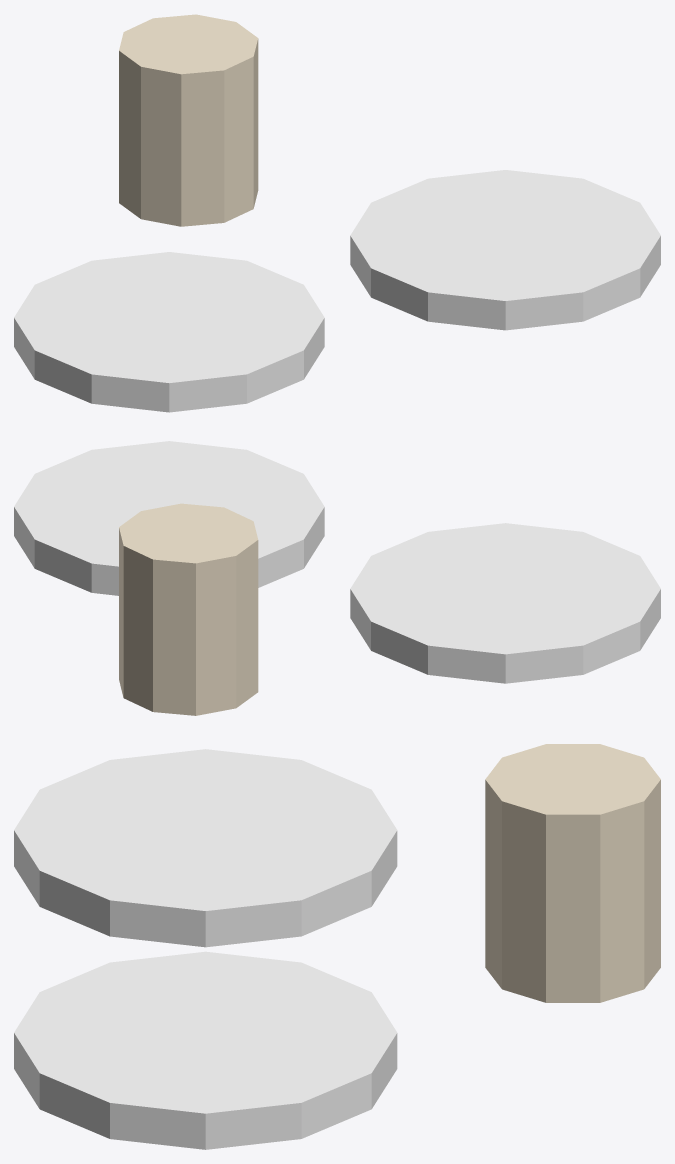
3 views of the same model, one above another, from view 1: azimuth 30°, elevation 25°; view 2: azimuth 150°, elevation 25°; view 3: azimuth 270°, elevation 25° (orthographic). The views are drawn at different scales.
Visible parts, largest first — view 1: Plate, Plate.001, Cup; view 2: Plate, Plate.001, Cup; view 3: Plate, Plate.001, Cup.
Part boxes in pixels (x1,y1,x2,y2): Plate: [14, 252, 324, 412]; Plate.001: [350, 170, 660, 330]; Cup: [119, 14, 258, 226]; Plate: [350, 523, 660, 683]; Plate.001: [14, 441, 324, 595]; Cup: [119, 503, 258, 715]; Plate: [14, 749, 397, 947]; Plate.001: [14, 951, 397, 1149]; Cup: [485, 744, 660, 1002].
Size of the model in its own units: 54 by 13 by 40.5.
